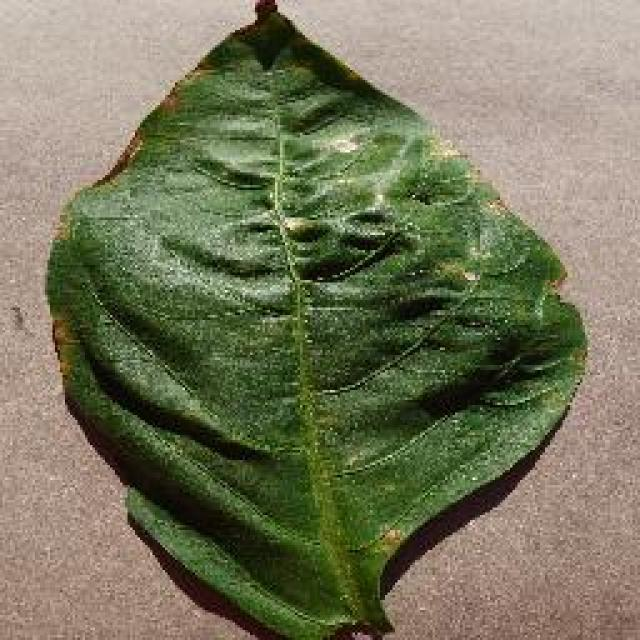Chilli_Bacterial_Spot: (40, 0, 590, 638), (340, 202, 400, 252), (275, 210, 323, 245), (248, 0, 282, 25)
